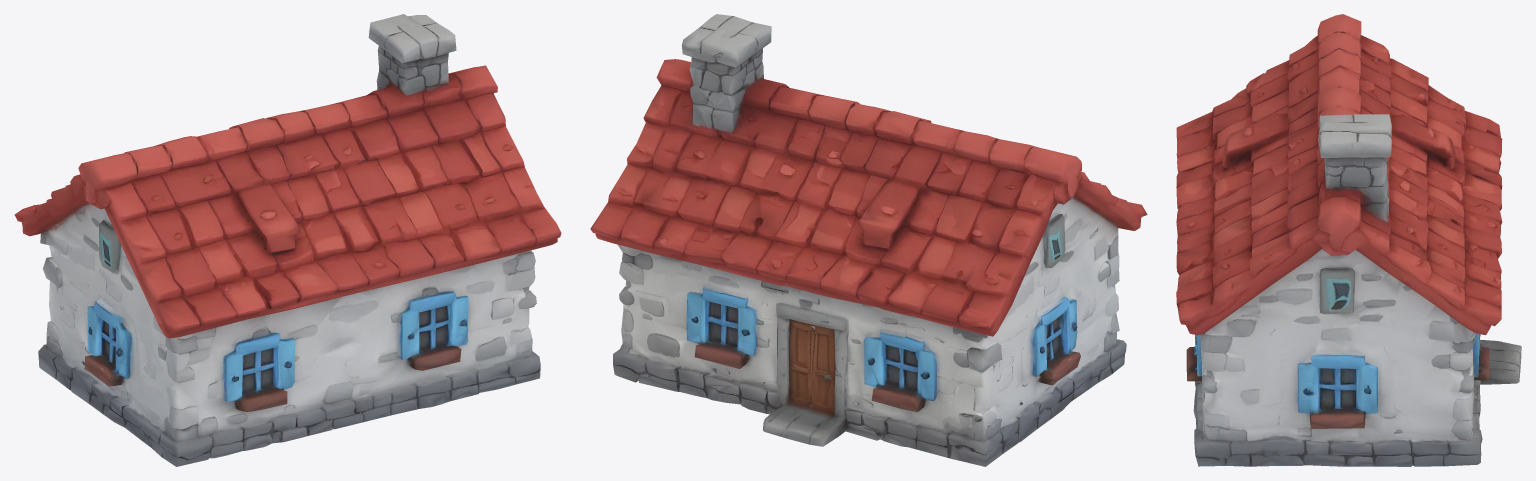
File: env-cottage.glb
3 views of the same model, side by side, from view 1: azimuth 30°, elevation 25°; view 2: azimuth 150°, elevation 25°; view 3: azimuth 270°, elevation 25° (orthographic). The views are drawn at different scales.
Parts seen in each view (by area): view 1: tripo_node_8c1a6d13-72aa-455c-a6b4-9c0d648ebd78; view 2: tripo_node_8c1a6d13-72aa-455c-a6b4-9c0d648ebd78; view 3: tripo_node_8c1a6d13-72aa-455c-a6b4-9c0d648ebd78.
Boxes of the visible parts, x1,y1,x2,y2 form: tripo_node_8c1a6d13-72aa-455c-a6b4-9c0d648ebd78: (14,14,561,466); tripo_node_8c1a6d13-72aa-455c-a6b4-9c0d648ebd78: (590,14,1147,466); tripo_node_8c1a6d13-72aa-455c-a6b4-9c0d648ebd78: (1176,14,1521,466).
Size of the model in its own units: 1 by 0.7351 by 0.7297.
Materials: 1 (1 with a texture image).
